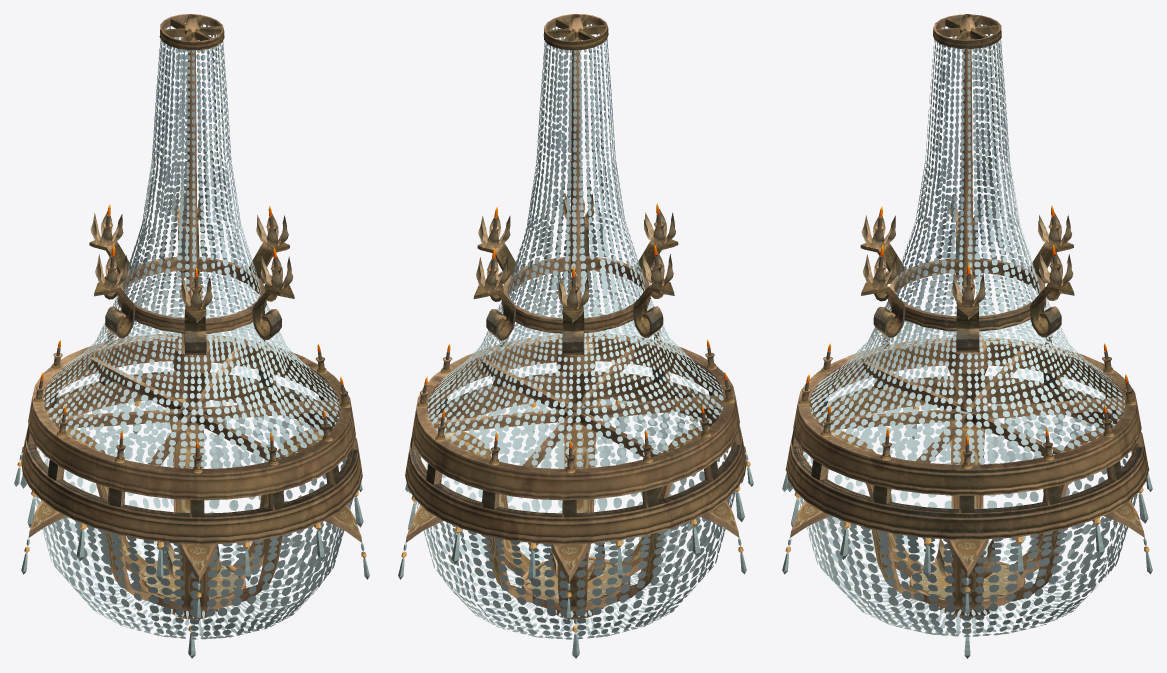
Rendered from Chandelier-1.fbx.
3 renders of one model, left to right at view 1: azimuth 30°, elevation 25°; view 2: azimuth 150°, elevation 25°; view 3: azimuth 270°, elevation 25°, orthographic.
Parts seen in each view (by area): view 1: Chandelier-1; view 2: Chandelier-1; view 3: Chandelier-1.
Boxes of the visible parts, x1,y1,x2,y2 form: Chandelier-1: (14,14,369,658); Chandelier-1: (398,14,753,658); Chandelier-1: (782,14,1152,658).
Size of the model in its own units: 1.58 by 2.87 by 1.5.
1 material, 1 textured.
